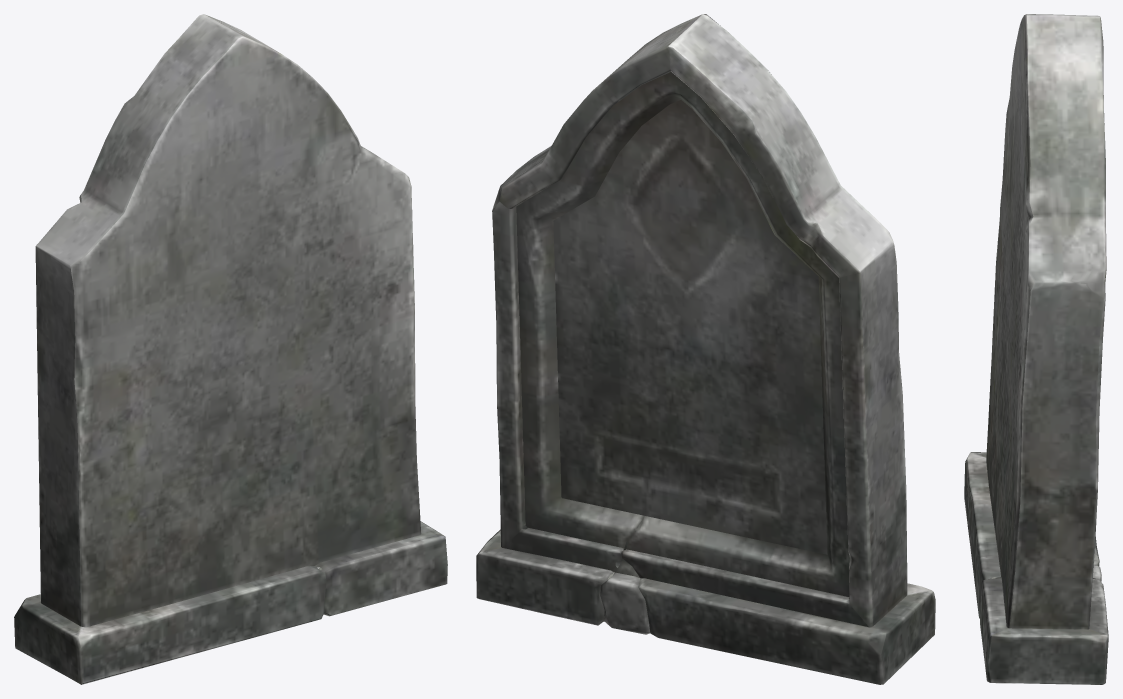
3 views of the same model, side by side, from view 1: azimuth 30°, elevation 25°; view 2: azimuth 150°, elevation 25°; view 3: azimuth 270°, elevation 25° (orthographic). The views are drawn at different scales.
Parts seen in each view (by area): view 1: SM_Human_Gravestone_Stone_02_LOD0; view 2: SM_Human_Gravestone_Stone_02_LOD0; view 3: SM_Human_Gravestone_Stone_02_LOD0.
Part boxes in pixels (box(x1,y1,x2,y2)): SM_Human_Gravestone_Stone_02_LOD0: box(14, 14, 447, 684); SM_Human_Gravestone_Stone_02_LOD0: box(476, 14, 935, 684); SM_Human_Gravestone_Stone_02_LOD0: box(964, 14, 1108, 684).
Size of the model in its own units: 1.12 by 1.62 by 0.3641.
1 material, 1 textured.
